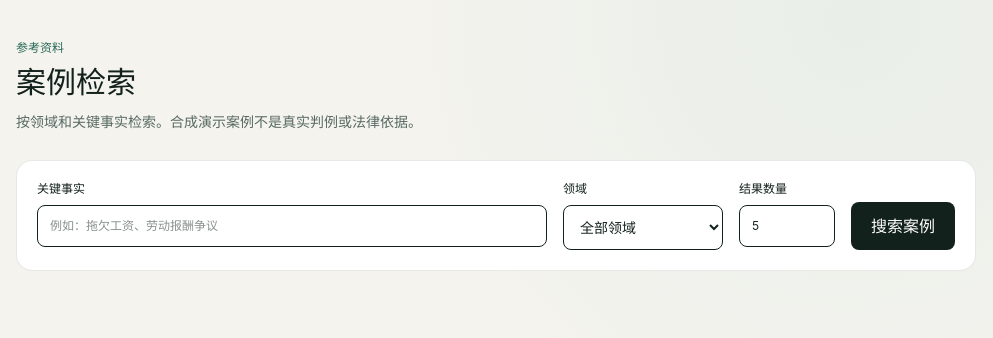
Test: resource pages › sends filters and displays empty results
The width and height of the screenshot is (993, 338).
Step 1. Type "劳动报酬" into the field labelled "关键事实" → (292, 226), box left=37, top=205, right=547, bottom=247
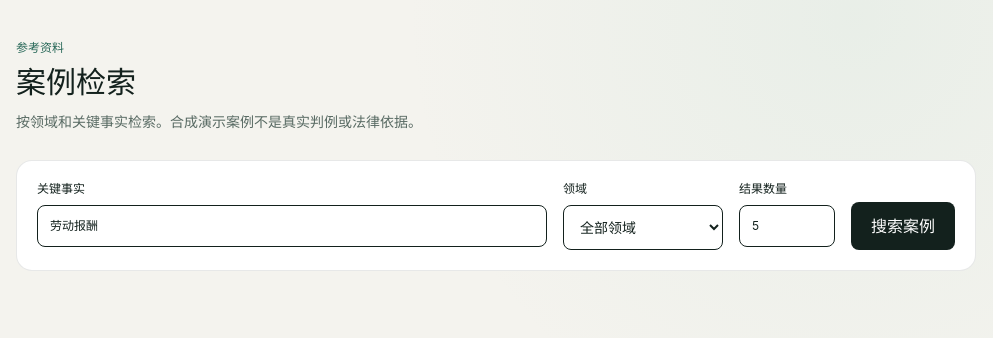
Step 2. Select "劳动争议" in the dropdown labelled "领域" → (643, 228), box left=563, top=205, right=723, bottom=250
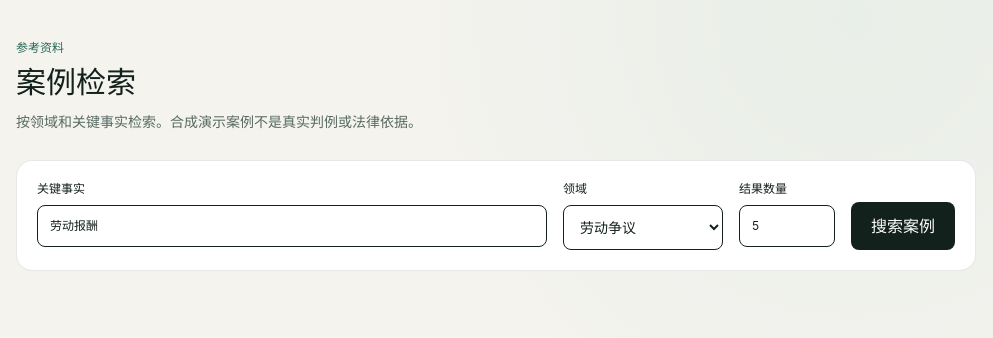
Step 3. Submit the form, box left=16, top=160, right=976, bottom=271
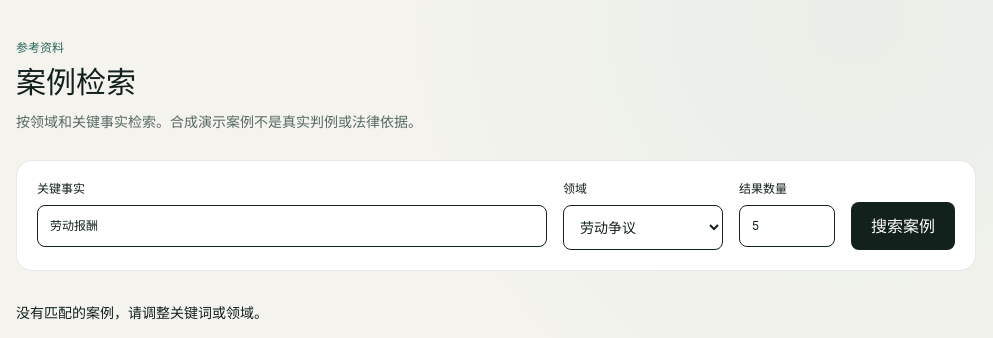
Result: the text "没有匹配" is shown at left=16, top=304, right=268, bottom=321
